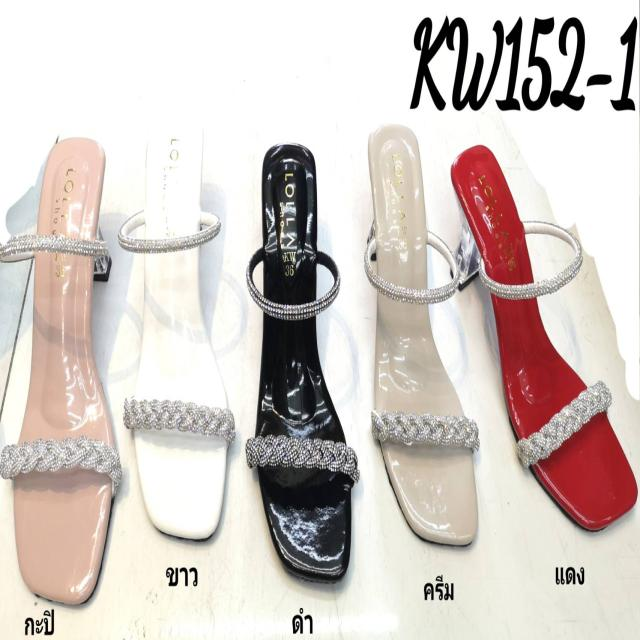black: (253, 145, 347, 576)
cream: (369, 124, 479, 546)
kapi: (18, 138, 116, 604)
red: (453, 147, 637, 533)
white: (136, 121, 228, 542)
